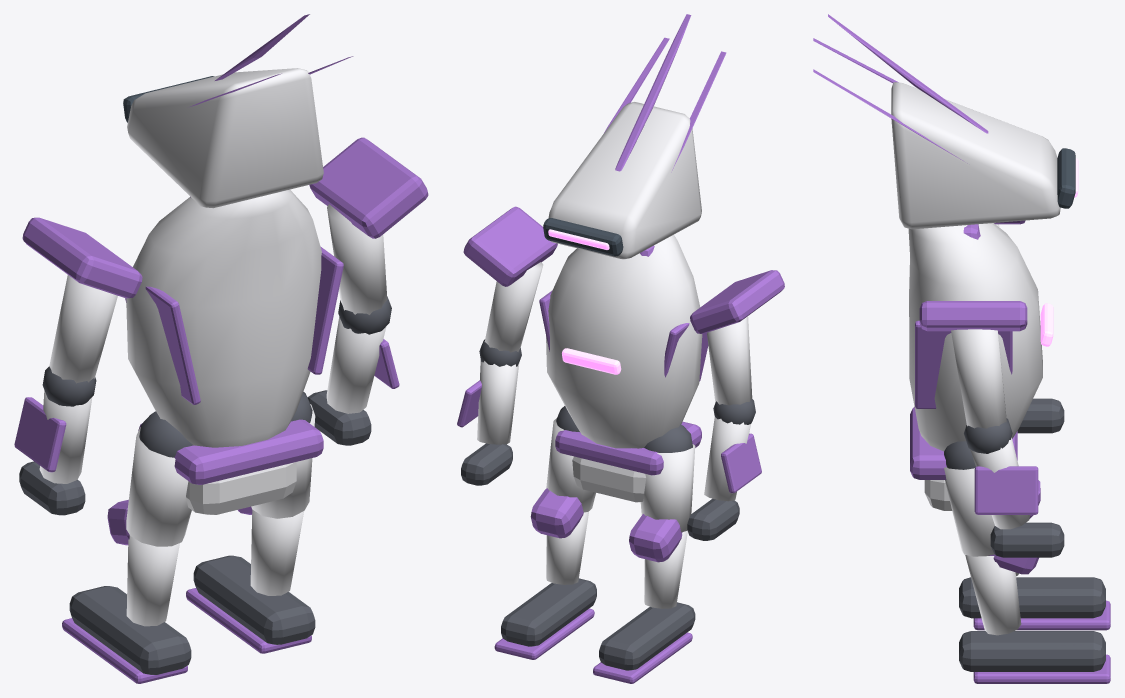
The model's file is grokbot-c.glb.
3 views of the same model, side by side, from view 1: azimuth 30°, elevation 25°; view 2: azimuth 150°, elevation 25°; view 3: azimuth 270°, elevation 25° (orthographic). The views are drawn at different scales.
Parts seen in each view (by area): view 1: body, head_shell, shoulder_r, foot_r, foot_l, thigh_l, belt, upperarm_l, shoulder_l, upperarm_r, shin_l, forearm_r (+17 smaller); view 2: body, head_shell, shoulder_r, foot_l, foot_r, upperarm_l, thigh_l, shoulder_l, upperarm_r, forearm_r, belt, hip (+21 smaller); view 3: head_shell, body, foot_r, upperarm_r, foot_l, shoulder_r, shin_r, blade_r, thigh_r, stripe_r, hand_r, sole_r (+12 smaller).
Boxes of the visible parts, box(x1,y1,x2,y2) form: body: box(126, 189, 321, 447); head_shell: box(127, 68, 323, 208); shoulder_r: box(309, 137, 428, 238); foot_r: box(193, 555, 315, 644); foot_l: box(69, 586, 191, 674); thigh_l: box(126, 427, 191, 546); belt: box(138, 419, 323, 484); upperarm_l: box(49, 275, 117, 383); shoulder_l: box(22, 217, 142, 298); upperarm_r: box(327, 204, 387, 314); shin_l: box(126, 535, 179, 626); forearm_r: box(326, 317, 386, 413); body: box(546, 234, 702, 448); head_shell: box(548, 102, 701, 259); shoulder_r: box(463, 206, 557, 286); foot_l: box(599, 602, 695, 670); foot_r: box(501, 578, 596, 646); upperarm_l: box(707, 316, 752, 405); thigh_l: box(640, 444, 695, 532); shoulder_l: box(690, 270, 784, 333); upperarm_r: box(484, 262, 543, 352); forearm_r: box(477, 360, 519, 444); belt: box(555, 421, 701, 475); hip: box(572, 456, 646, 502); head_shell: box(891, 82, 1060, 229); body: box(908, 223, 1042, 451); foot_r: box(959, 631, 1105, 671); upperarm_r: box(951, 329, 1006, 428); foot_l: box(959, 577, 1105, 618); shoulder_r: box(919, 301, 1027, 331); shin_r: box(965, 555, 1021, 635); blade_r: box(974, 466, 1038, 514); thigh_r: box(944, 467, 994, 556); stripe_r: box(915, 320, 1012, 408); hand_r: box(990, 522, 1064, 557); sole_r: box(973, 654, 1110, 683).
Size of the model in its own units: 0.7382 by 1.42 by 0.6074.
